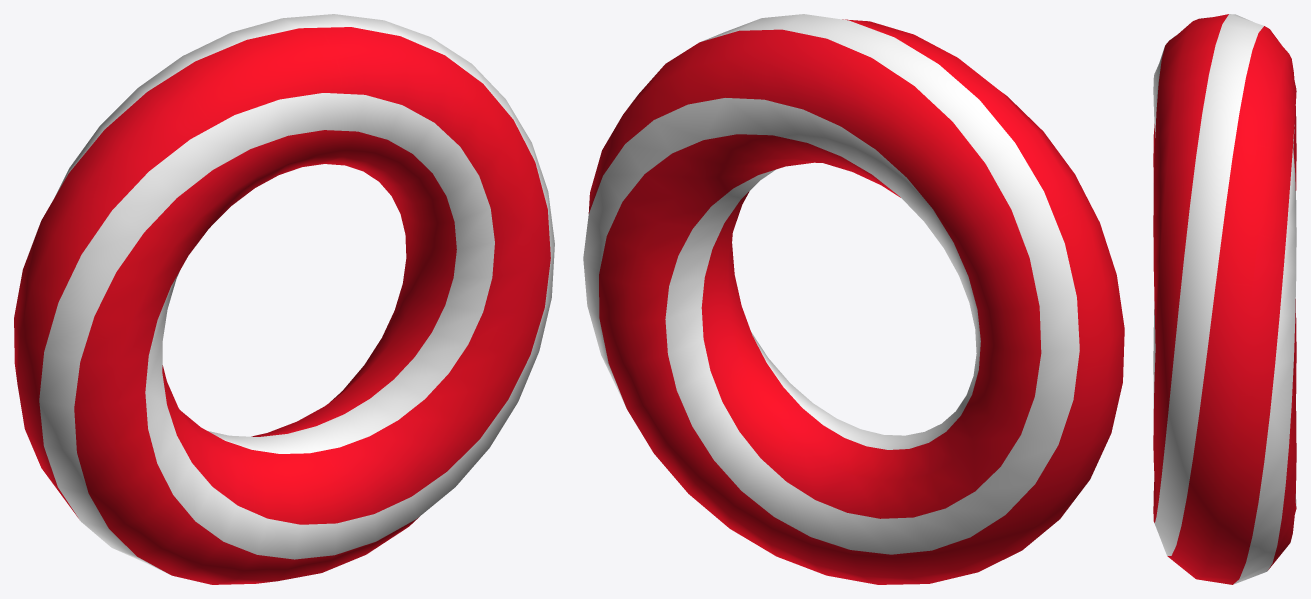
File: lollipop_031.glb
3 renders of one model, left to right at view 1: azimuth 30°, elevation 25°; view 2: azimuth 150°, elevation 25°; view 3: azimuth 270°, elevation 25°, orthographic. The views are drawn at different scales.
Parts seen in each view (by area): view 1: lollipop_031; view 2: lollipop_031; view 3: lollipop_031.
Boxes of the visible parts, bbox=[...] form: lollipop_031: bbox=[14, 14, 554, 584]; lollipop_031: bbox=[583, 14, 1124, 584]; lollipop_031: bbox=[1153, 14, 1296, 584].
Bounding box in the file's own units: 5.9 × 5.91 × 1.48.
Materials: 1 (1 with a texture image).
